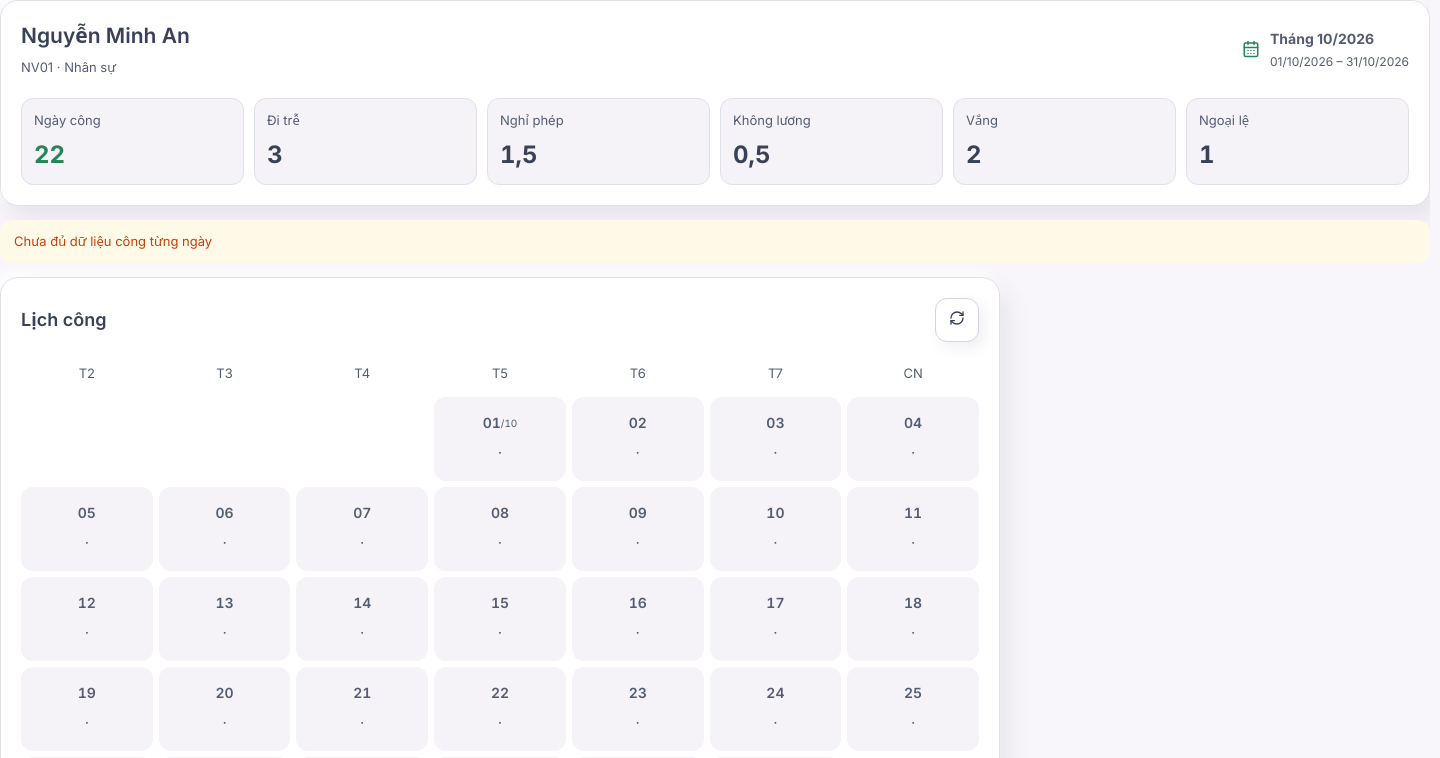
individual employee attendance calendar › does not invent a daily record when only aggregate totals are available
Click the button named "01/10/2026: Chưa có dữ liệu".
click(500, 439)  # box [434,397,566,481]
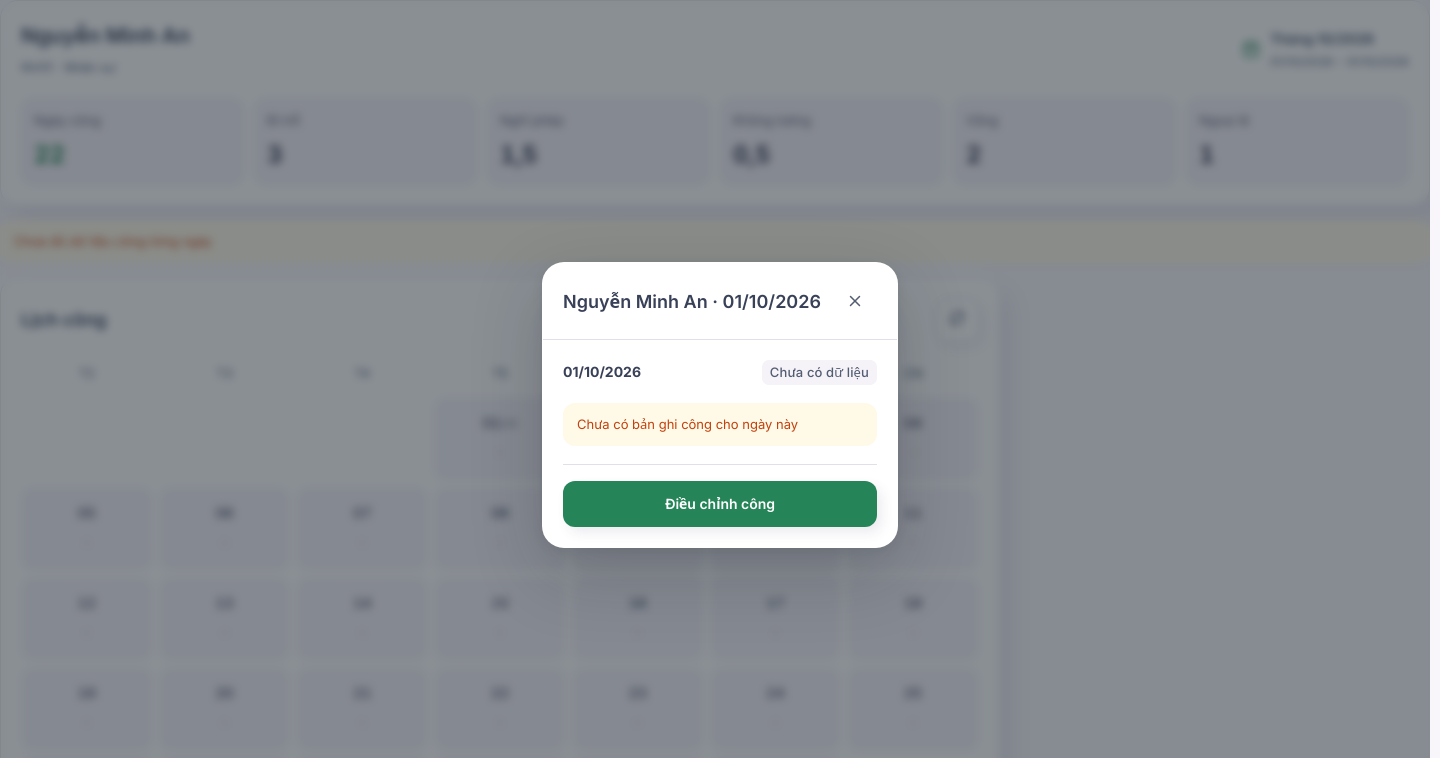
Check: the text "22" is shown, box [34,140,65,169]
Check: the text "Chưa có bản ghi công cho ngày này" is shown, box [563,403,877,446]
